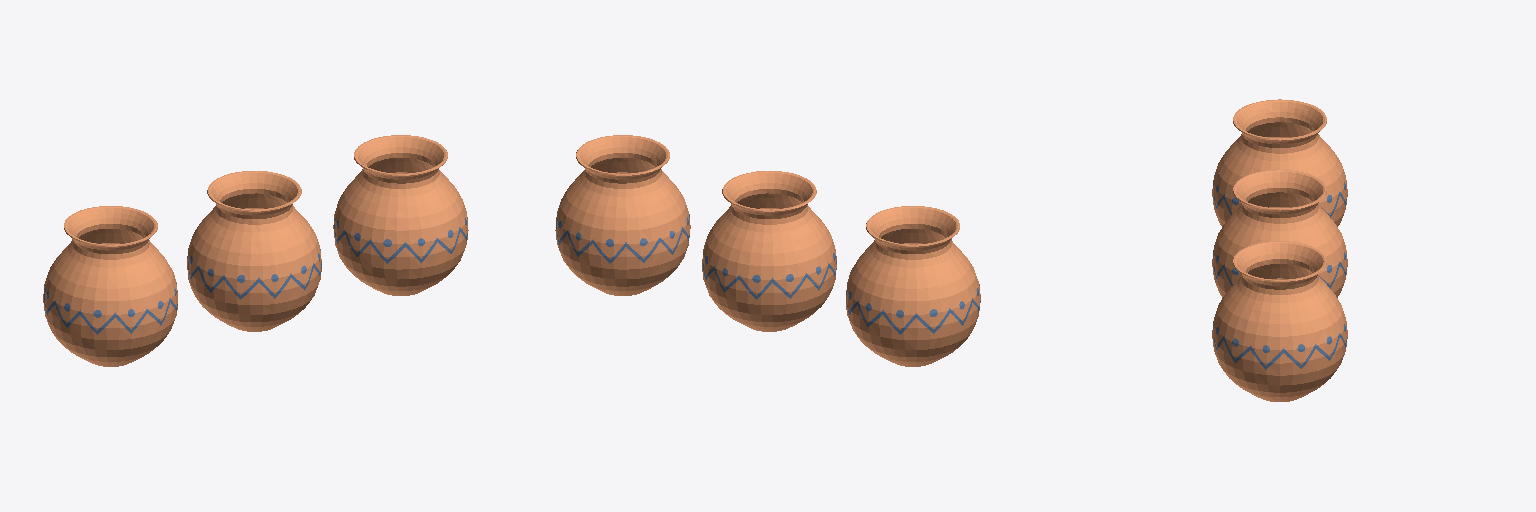
3 views of the same model, side by side, from view 1: azimuth 30°, elevation 25°; view 2: azimuth 150°, elevation 25°; view 3: azimuth 270°, elevation 25° (orthographic).
Visible parts, largest first — view 1: vase_Cylinder.010, vase.001_Cylinder.010, vase.002_Cylinder.010; view 2: vase_Cylinder.010, vase.001_Cylinder.010, vase.002_Cylinder.010; view 3: vase.002_Cylinder.010, vase_Cylinder.010, vase.001_Cylinder.010.
Boxes of the visible parts, x1=… form: vase_Cylinder.010: x1=187, y1=171, x2=321, y2=331; vase.001_Cylinder.010: x1=43, y1=206, x2=177, y2=366; vase.002_Cylinder.010: x1=333, y1=135, x2=468, y2=295; vase_Cylinder.010: x1=702, y1=171, x2=836, y2=331; vase.001_Cylinder.010: x1=846, y1=206, x2=980, y2=366; vase.002_Cylinder.010: x1=555, y1=135, x2=690, y2=295; vase.002_Cylinder.010: x1=1212, y1=241, x2=1347, y2=401; vase_Cylinder.010: x1=1212, y1=170, x2=1347, y2=297; vase.001_Cylinder.010: x1=1212, y1=99, x2=1347, y2=226.
Size of the model in its own units: 1.5 by 0.464 by 0.434.
Materials: 1 (1 with a texture image).